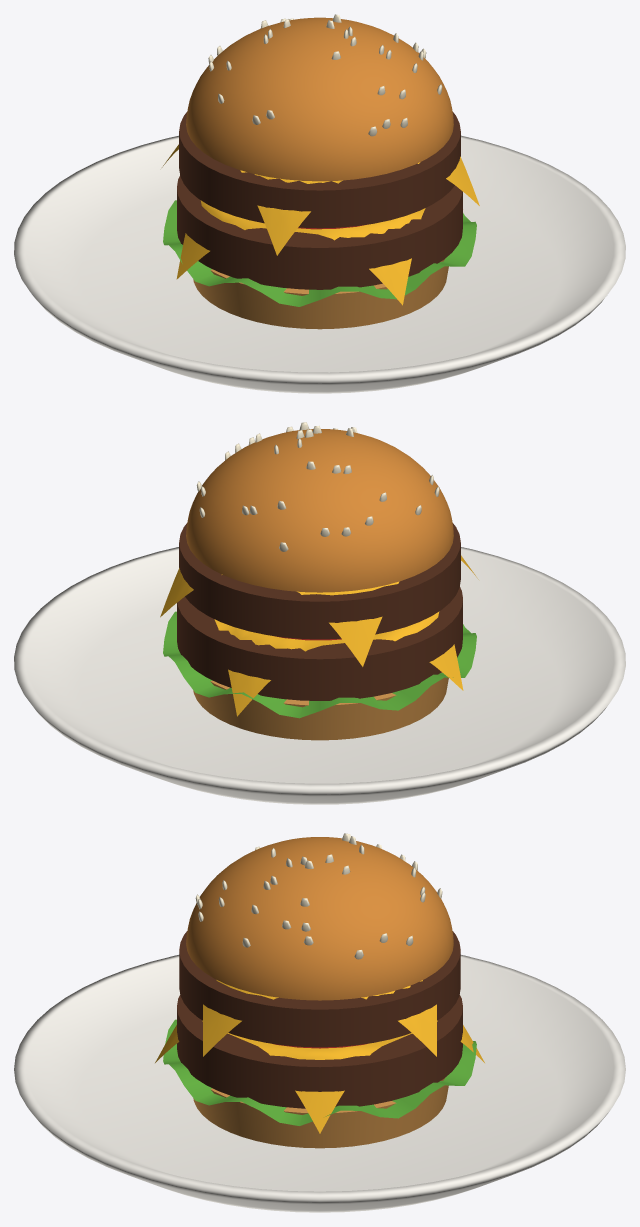
The model's file is x-burger.glb.
3 renders of one model, top to bottom at view 1: azimuth 30°, elevation 25°; view 2: azimuth 150°, elevation 25°; view 3: azimuth 270°, elevation 25°, orthographic.
Visible parts, largest first — view 1: x-burger, prato, gergelim; view 2: x-burger, prato, gergelim; view 3: x-burger, prato, gergelim.
Boxes of the visible parts, left/top/right/bottom form: x-burger: left=162, top=17, right=479, bottom=329; prato: left=14, top=135, right=625, bottom=393; gergelim: left=208, top=14, right=442, bottom=136; x-burger: left=160, top=429, right=478, bottom=740; prato: left=14, top=547, right=625, bottom=804; gergelim: left=196, top=422, right=439, bottom=551; x-burger: left=155, top=837, right=484, bottom=1148; prato: left=14, top=955, right=625, bottom=1212; gergelim: left=195, top=833, right=442, bottom=959.
Bounding box in the file's own units: 0.2652 × 0.1262 × 0.2652.
